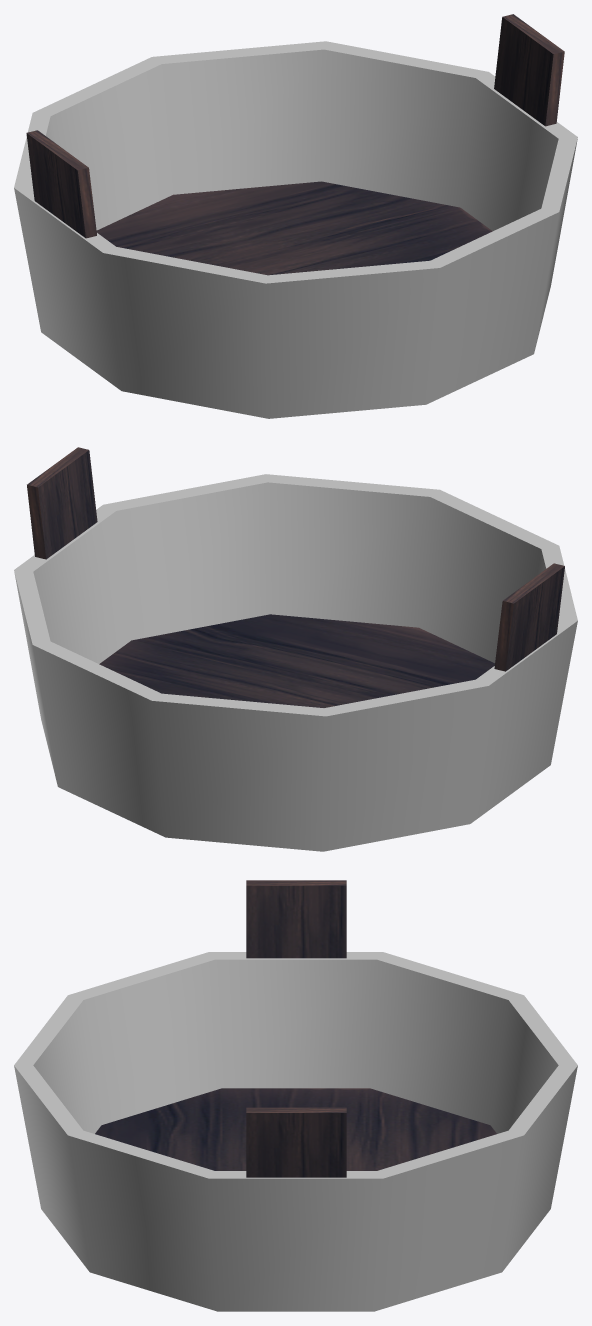
File: Bucket_A.fbx
3 views of the same model, one above another, from view 1: azimuth 30°, elevation 25°; view 2: azimuth 150°, elevation 25°; view 3: azimuth 270°, elevation 25° (orthographic). The views are drawn at different scales.
Visible parts, largest first — view 1: Bucket_A; view 2: Bucket_A; view 3: Bucket_A.
Part boxes in pixels (left/top/right/bottom): Bucket_A: left=14, top=14, right=577, bottom=418; Bucket_A: left=14, top=447, right=577, bottom=851; Bucket_A: left=14, top=880, right=577, bottom=1311.
Size of the model in its own units: 0.5347 by 0.2277 by 0.5482.
